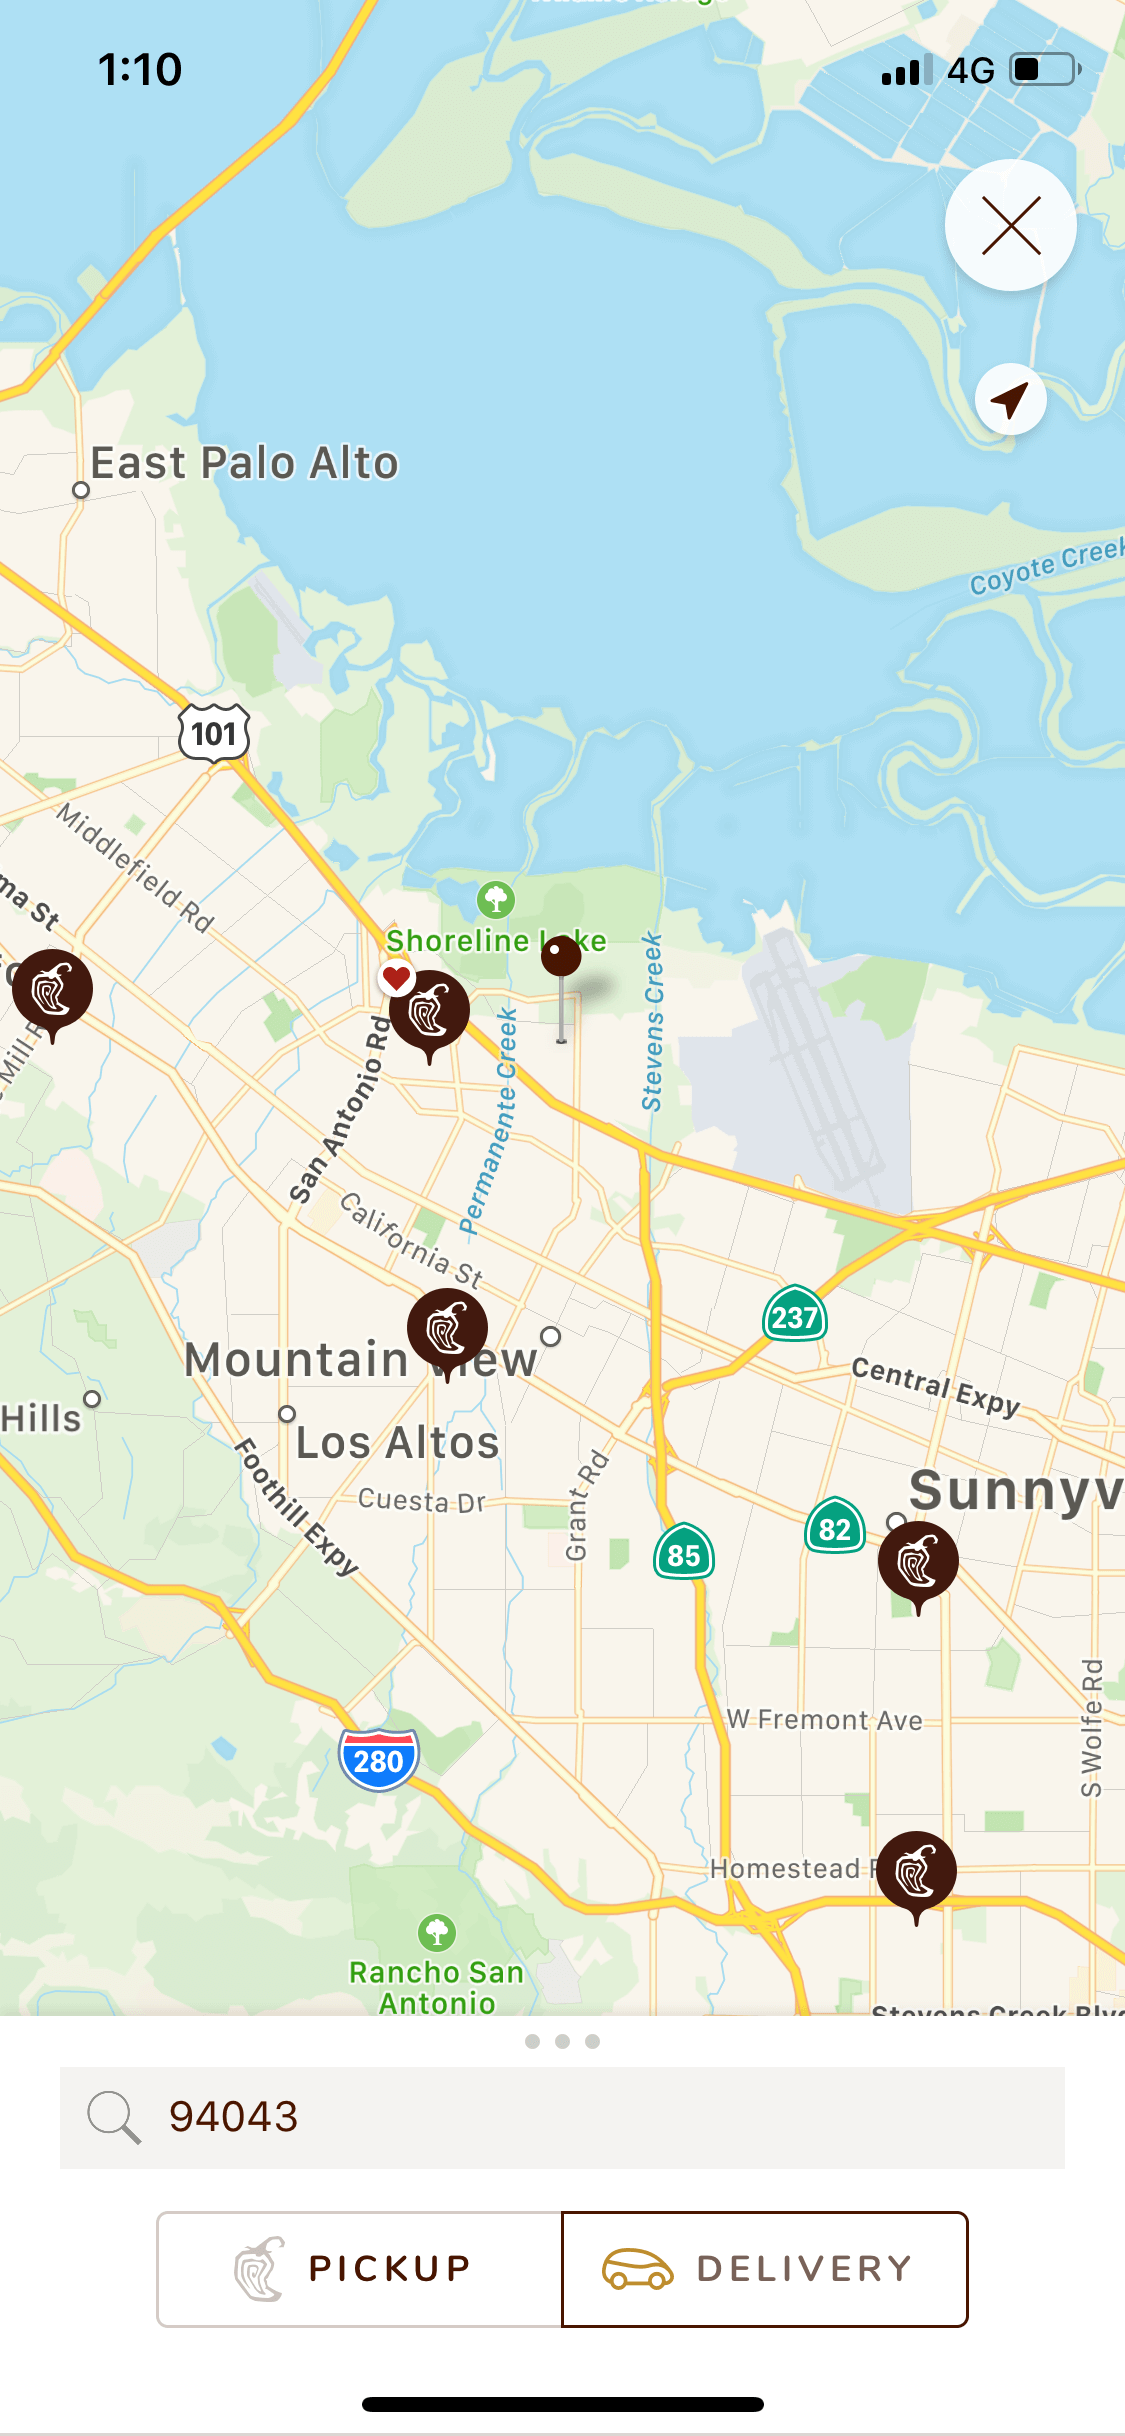FAB (Floating Action Button): (931, 144, 1085, 303), (951, 350, 1060, 447)
